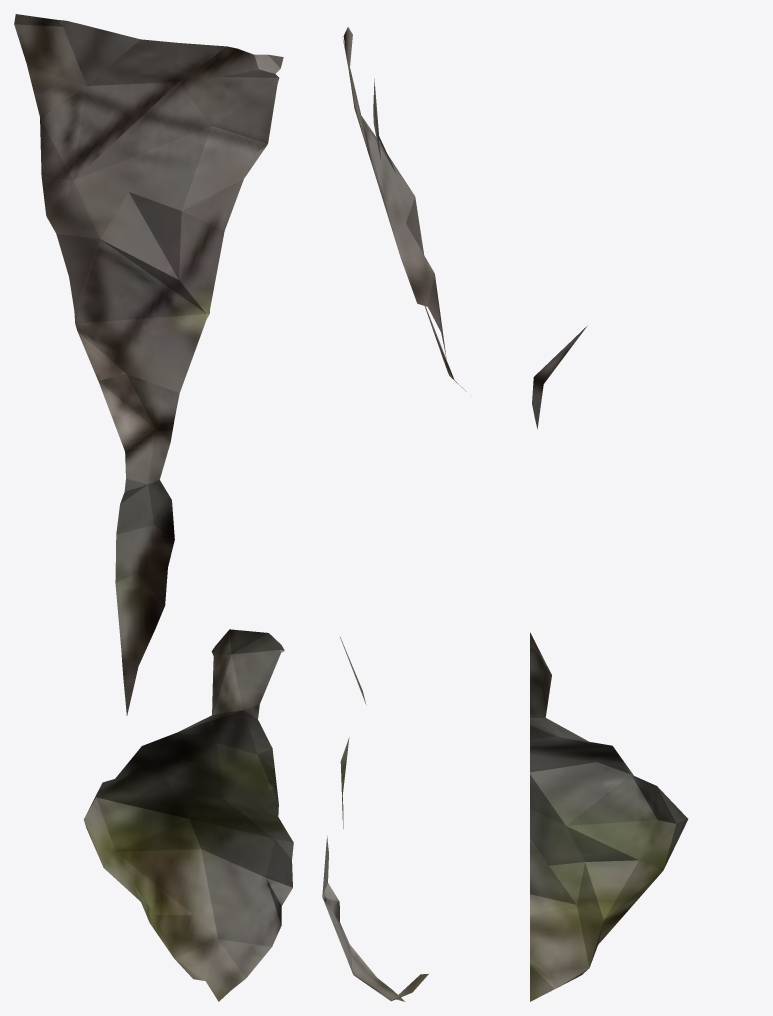
3 views of the same model, side by side, from view 1: azimuth 30°, elevation 25°; view 2: azimuth 150°, elevation 25°; view 3: azimuth 270°, elevation 25° (orthographic). The views are drawn at different scales.
Size of the model in its own units: 0.1165 by 0.6197 by 0.1364.
Materials: 1 (1 with a texture image).
